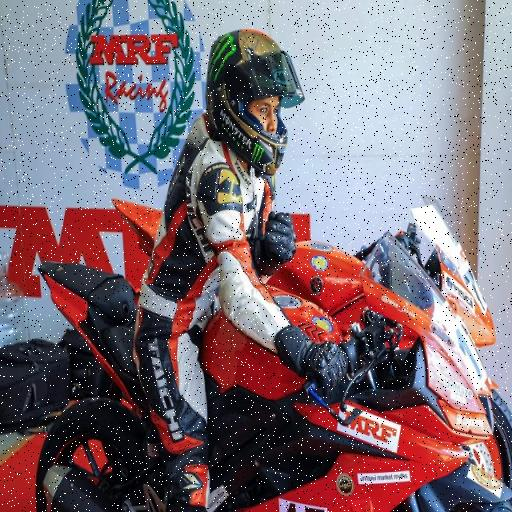Helmet: (206, 29, 303, 175)
Motor: (28, 221, 506, 512)
